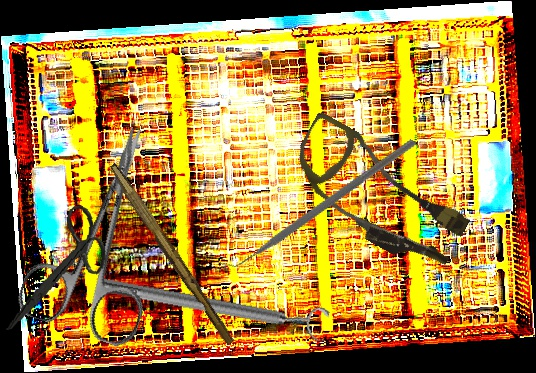Cannula: (275, 110, 482, 280)
Chopper: (216, 88, 417, 316)
Fixation Ring: (94, 264, 331, 345)
Iris Scissors: (13, 110, 199, 351), (6, 199, 112, 341)
Scalpel Handle: (103, 162, 239, 347)
